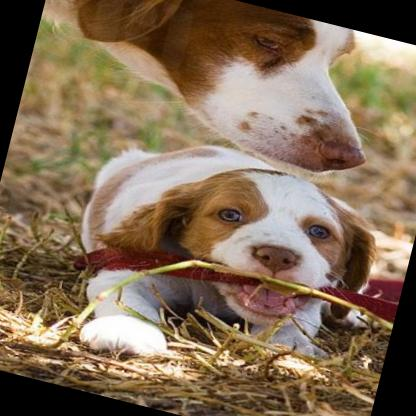Brittany_spaniel: (37, 100, 416, 416), (20, 0, 396, 187)
